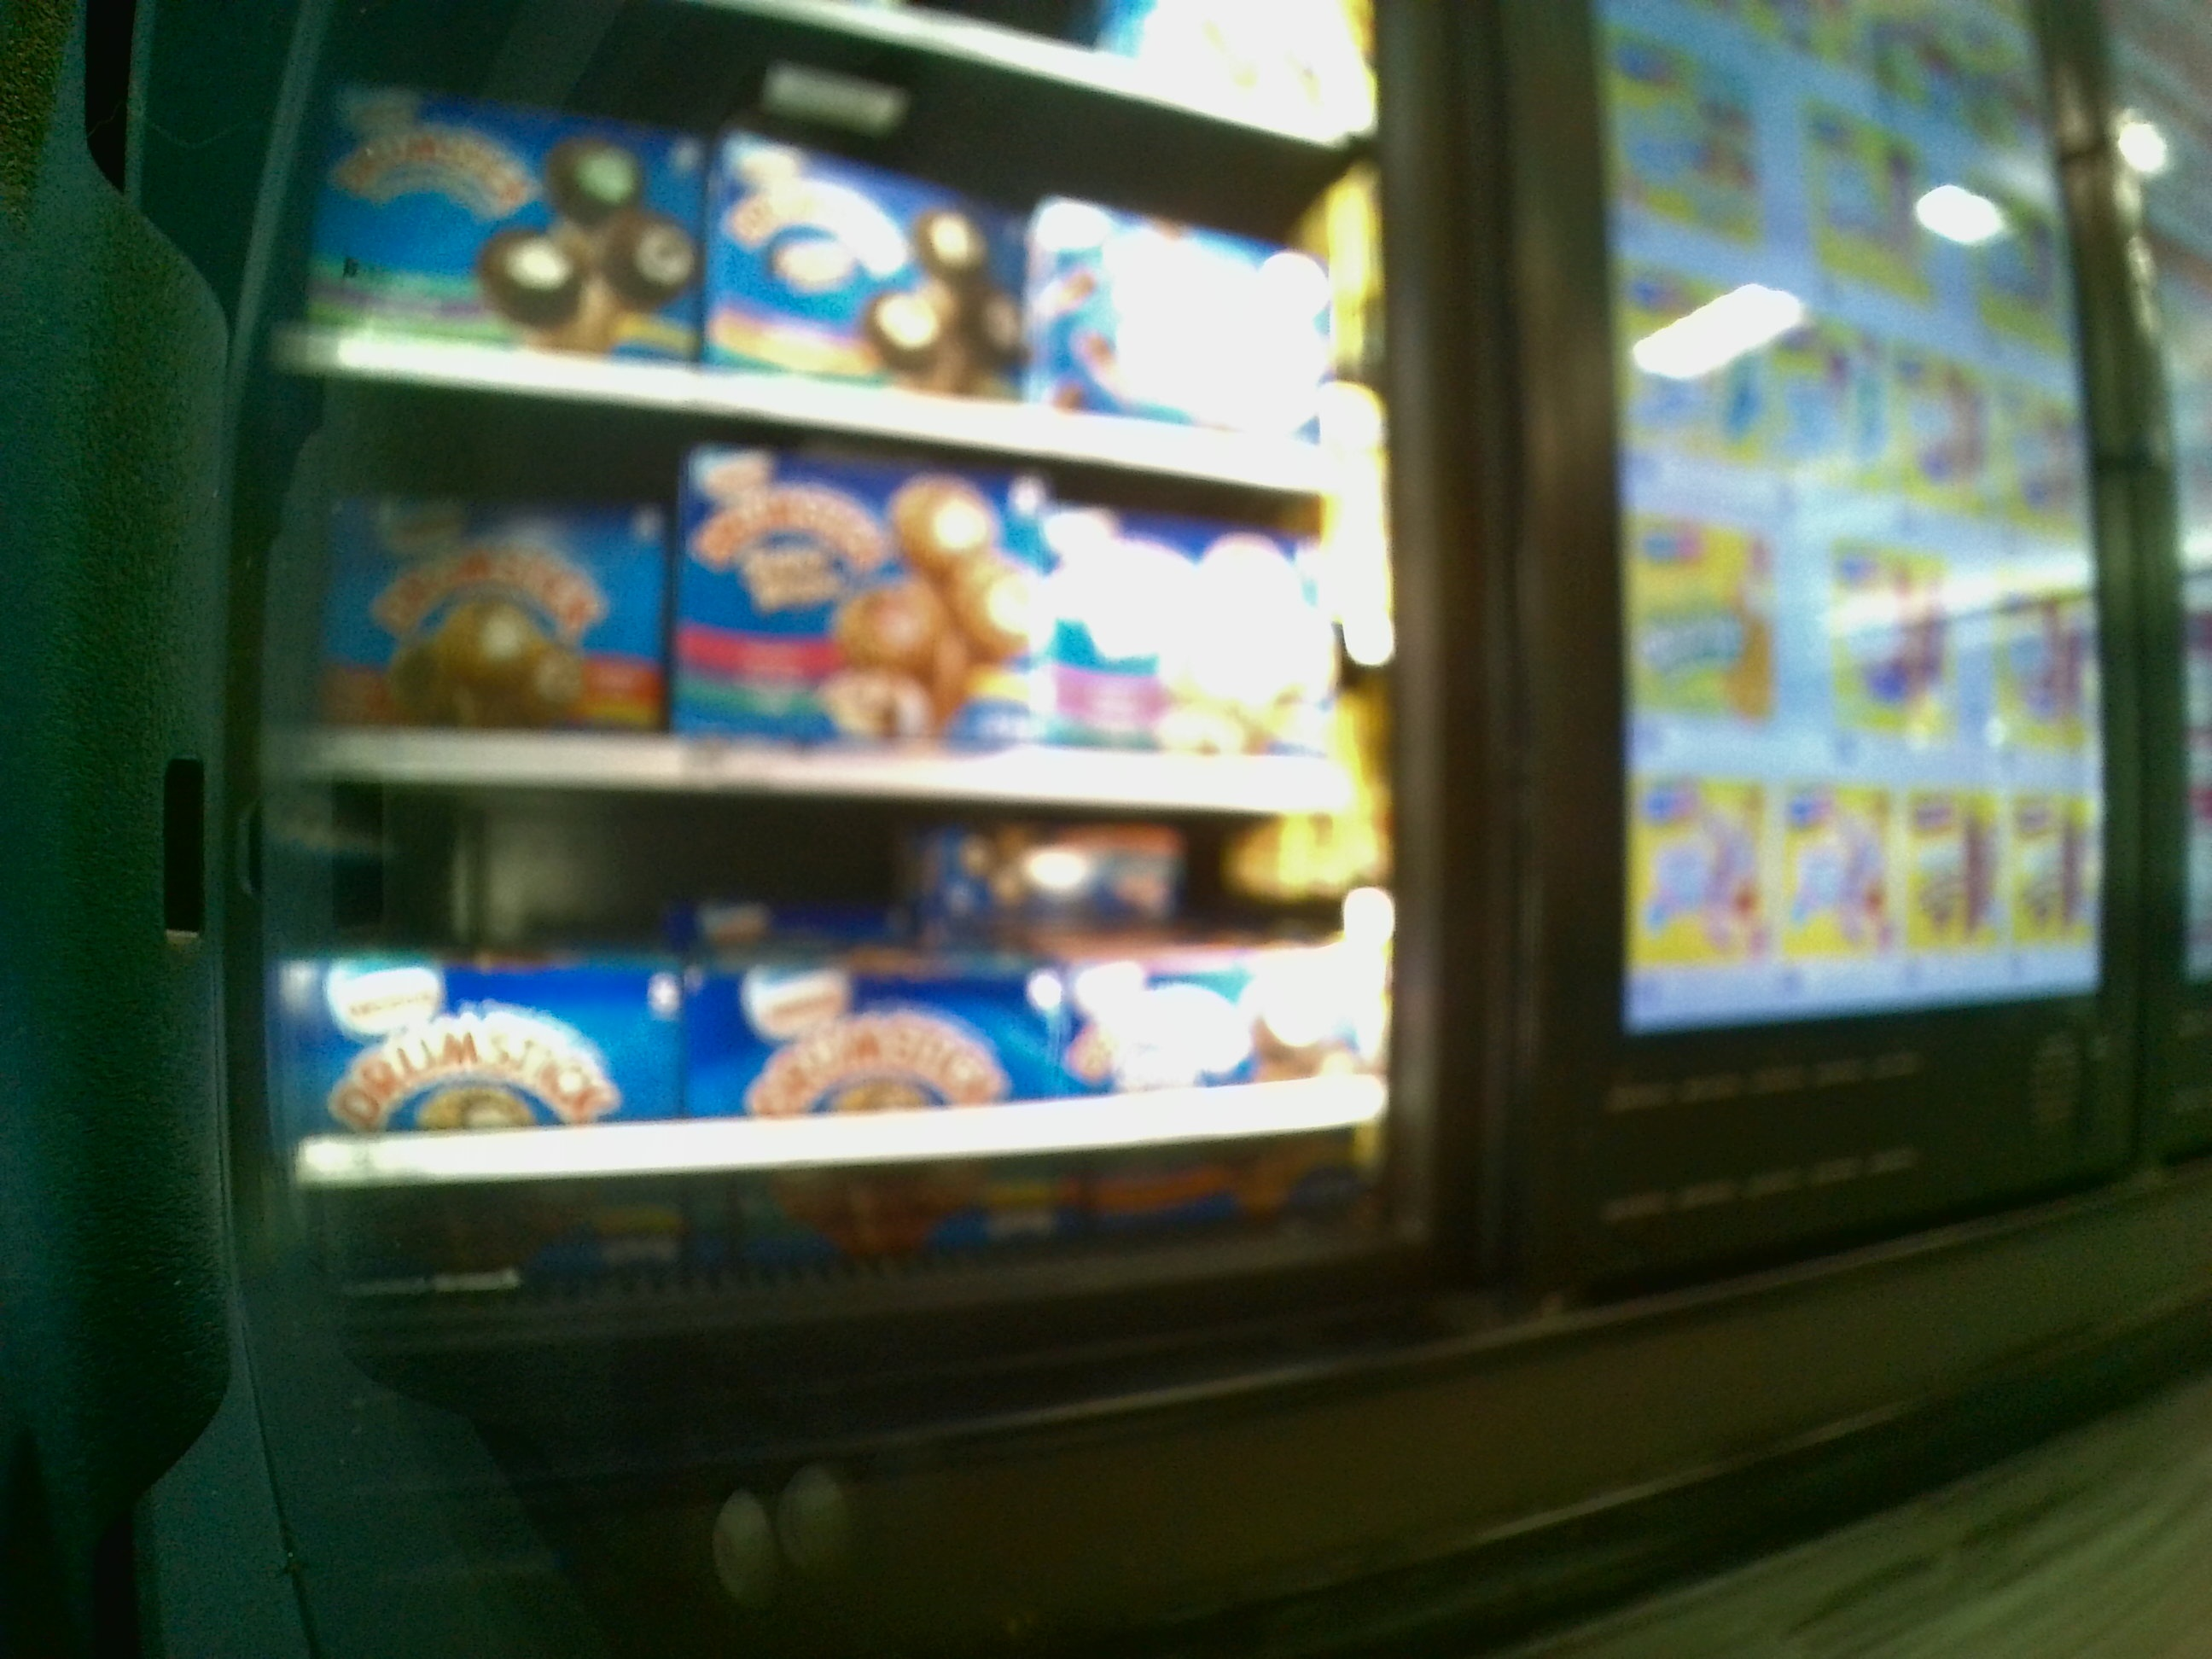shelf: (280, 796, 1395, 1286), (263, 429, 1386, 807)
